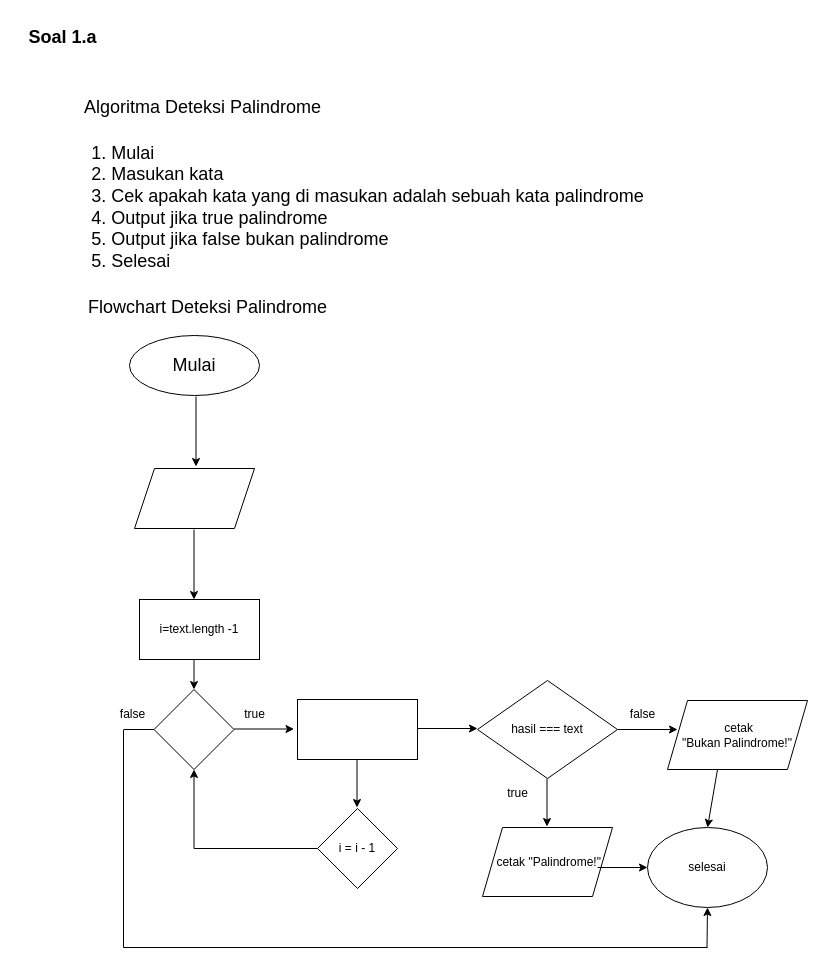
The diagram is 825 pixels wide and 973 high, and some of its shapes have lost their labels. Here are the shapes that lost their labels. From the top down, the centre of each, then its label:
At [194,498]: "Input kata".
At [193,729]: "i>= 0".
At [357,729]: "hasil=hasil+text[i]".
